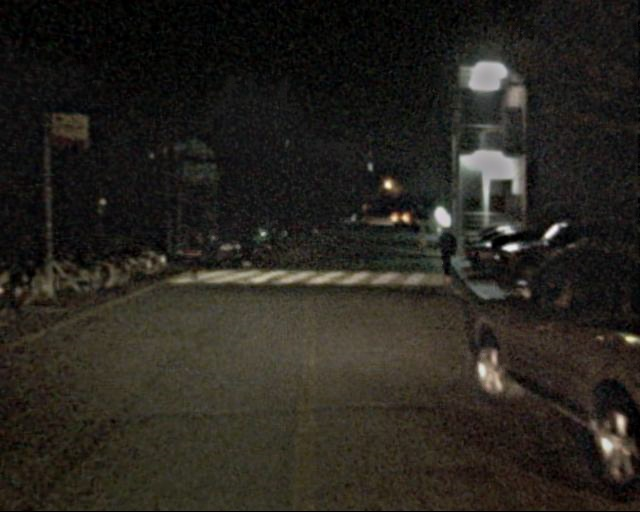person: (431, 227, 458, 293), (175, 218, 200, 278), (227, 219, 245, 263)
